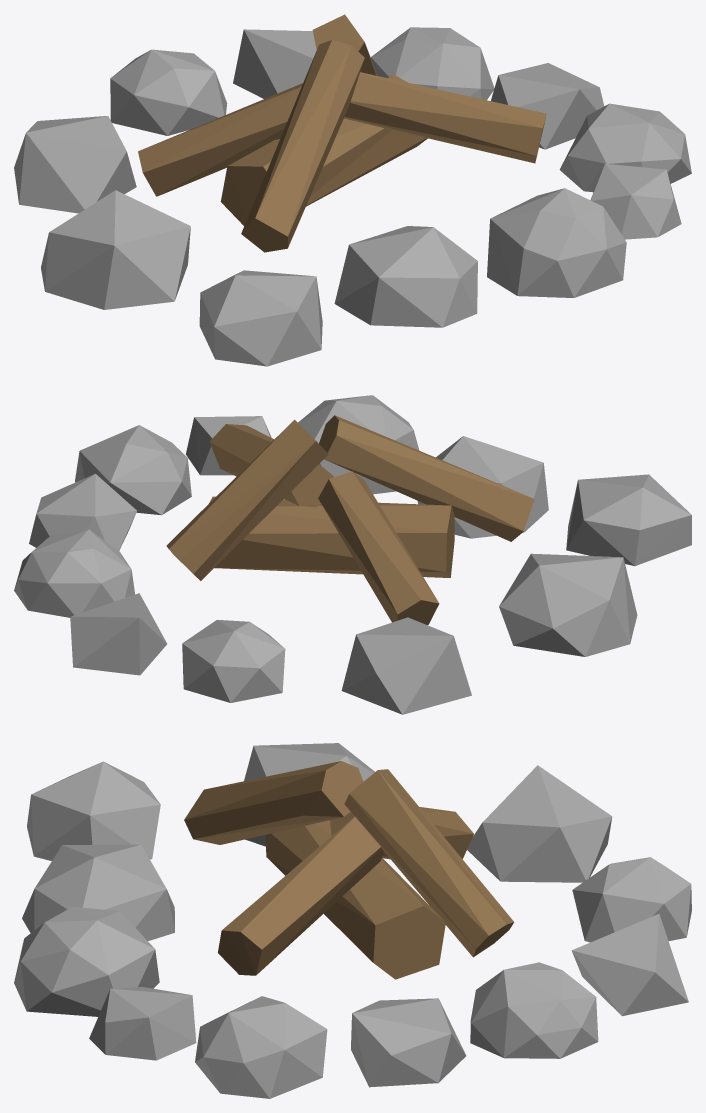
File: Lagerfeuer.fbx
3 views of the same model, one above another, from view 1: azimuth 30°, elevation 25°; view 2: azimuth 150°, elevation 25°; view 3: azimuth 270°, elevation 25° (orthographic). The views are drawn at different scales.
Parts seen in each view (by area): view 1: Lagerfeuer; view 2: Lagerfeuer; view 3: Lagerfeuer.
Boxes of the visible parts, x1,y1,x2,y2 form: Lagerfeuer: (14,14,691,366); Lagerfeuer: (14,395,691,714); Lagerfeuer: (14,743,691,1098).
Size of the model in its own units: 42.46 by 11.86 by 38.48.
